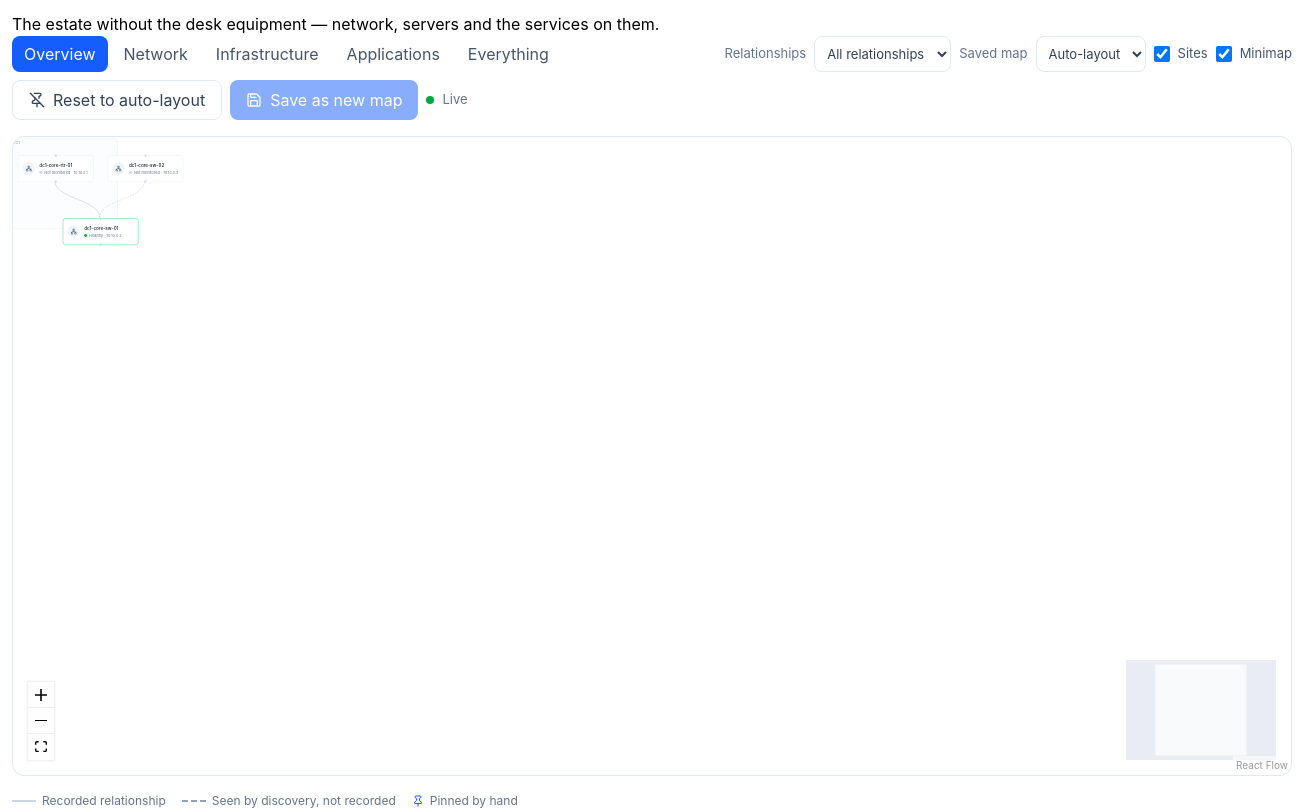
Test: TopologyPage › says what the chosen view is showing
Expected: the text "without the desk equipment" is shown, [12, 14, 659, 34]
Click the button "Network".
click(156, 54)  # box [112, 36, 200, 72]
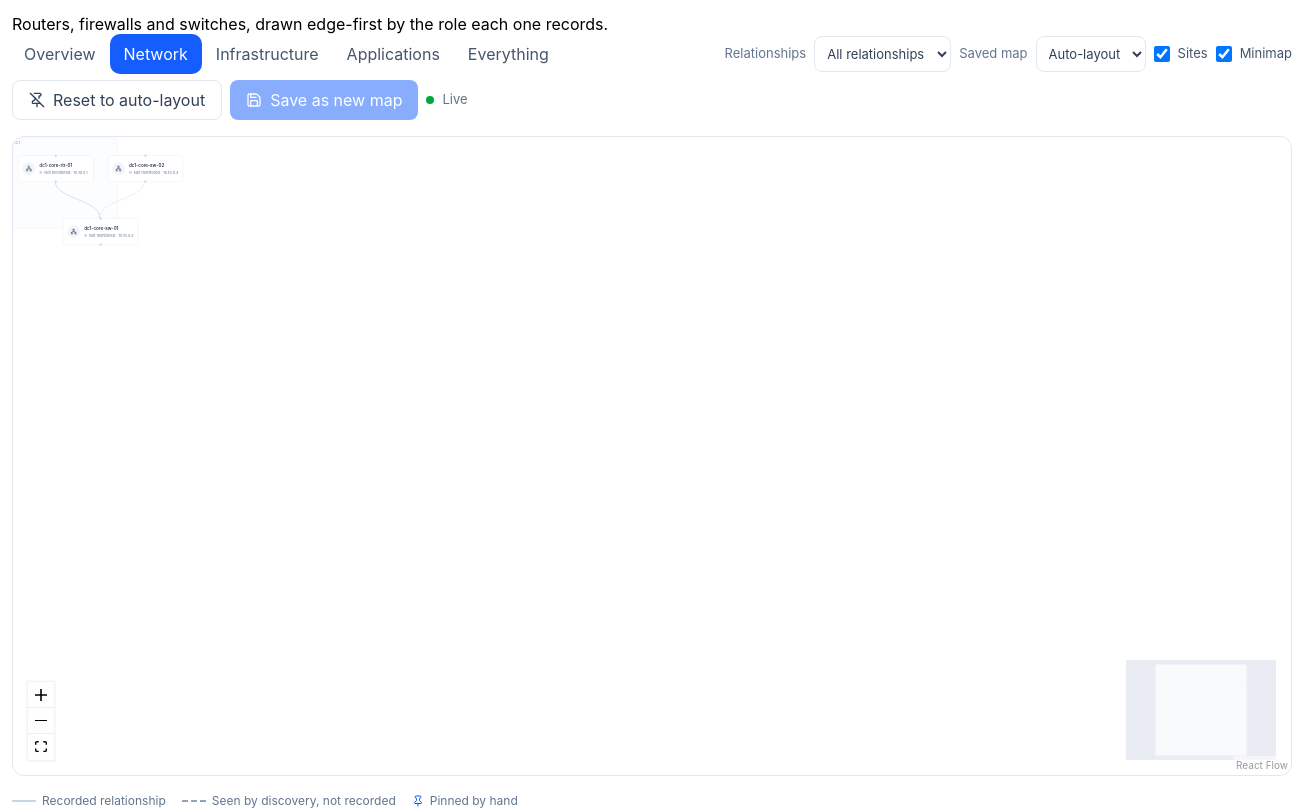
Now the text "edge-first by the role each one records" is shown, box [12, 14, 608, 34]
